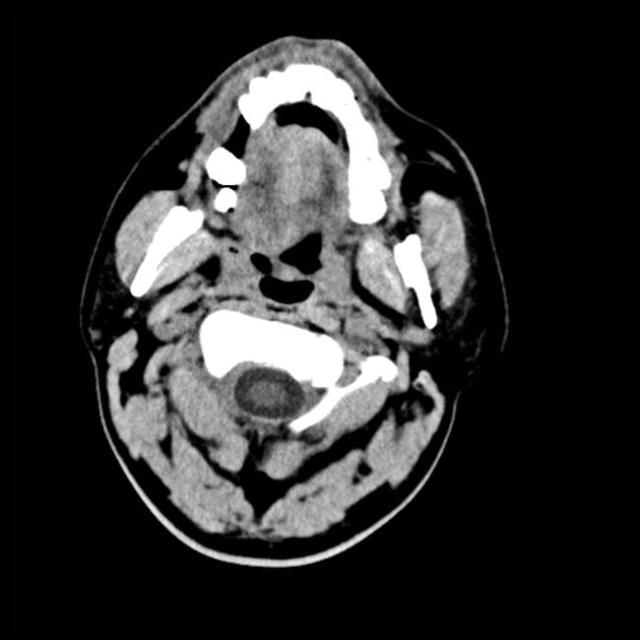lesion: (82, 36, 511, 562)
